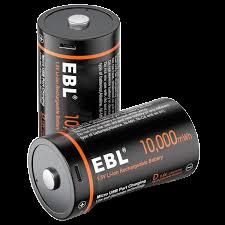Battery: (28, 98, 200, 220), (38, 5, 121, 136)
